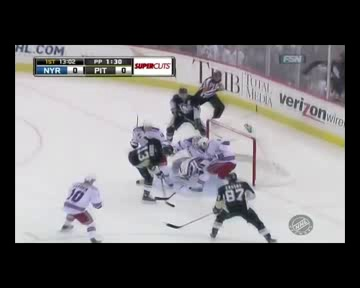normal: (210, 169, 274, 241), (56, 165, 110, 241), (190, 68, 230, 118)
